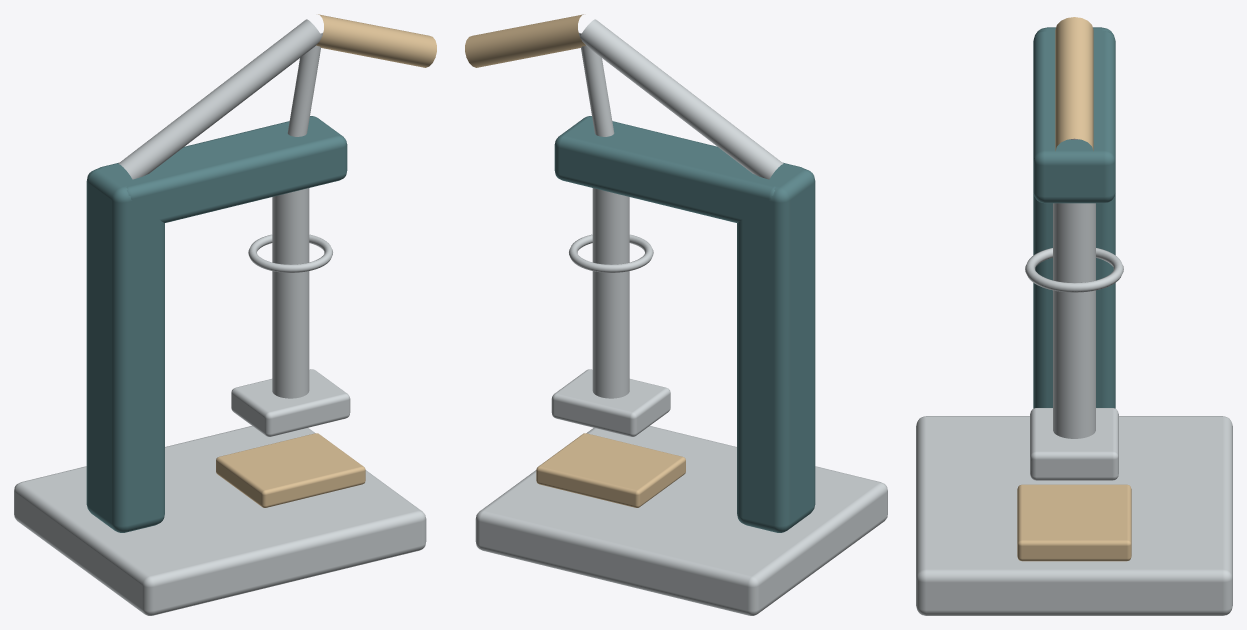
Rendered from candlemaking-and-soap-workshop-soap-stamping-press-1de798db__30681.glb.
The picture shows the model from 3 angles, left to right: view 1: azimuth 30°, elevation 25°; view 2: azimuth 150°, elevation 25°; view 3: azimuth 270°, elevation 25°; orthographic projection. The views are drawn at different scales.
Parts seen in each view (by area): view 1: soap-stamping-press; view 2: soap-stamping-press; view 3: soap-stamping-press.
Part boxes in pixels (bbox=[...]): soap-stamping-press: bbox=[14, 14, 436, 615]; soap-stamping-press: bbox=[465, 14, 887, 615]; soap-stamping-press: bbox=[916, 17, 1232, 615].
Bounding box in the file's own units: 0.3758 × 0.5038 × 0.25.
